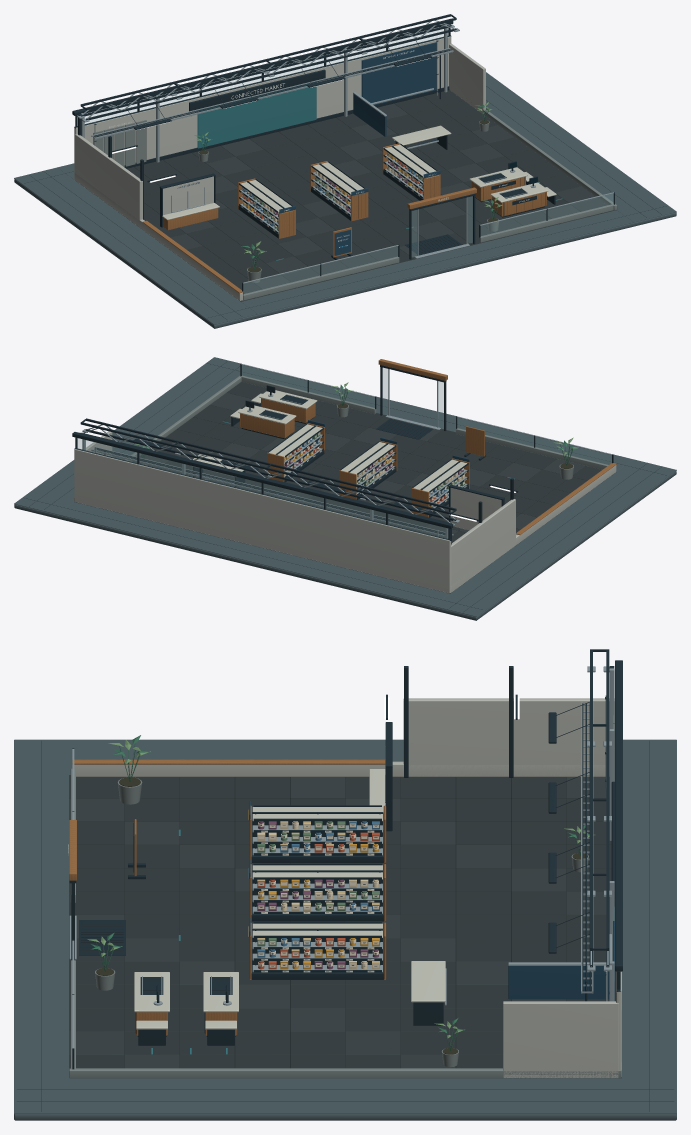
The model's file is enterprise-store.glb.
3 renders of one model, top to bottom at view 1: azimuth 30°, elevation 25°; view 2: azimuth 150°, elevation 25°; view 3: azimuth 270°, elevation 25°, orthographic. The views are drawn at different scales.
Parts seen in each view (by area): view 1: FloorShell_Warmlimestonetile, FloorShell_Exteriorcharcoalpaving, FloorShell_Limestonetonevariation, CutawayWalls_Warmmineralplaster, RearElevation_Warmmineralplaster, LightingRig_Graphitearchitecturalsteel, RearElevation_Graphitearchitecturalsteel, RearElevation_Retailbluegreenenamel, Storefront_Architecturalclearblueglazing, RearElevation_Slatenavypanels, RetailAisles_Graphitearchitecturalsteel, Storefront_Boardformedconcrete (+23 smaller); view 2: FloorShell_Exteriorcharcoalpaving, RearElevation_Warmmineralplaster, FloorShell_Warmlimestonetile, FloorShell_Limestonetonevariation, LightingRig_Graphitearchitecturalsteel, CutawayWalls_Warmmineralplaster, RearElevation_Architecturalclearblueglazing, Storefront_Architecturalclearblueglazing, RearElevation_Graphitearchitecturalsteel, Storefront_Boardformedconcrete, RetailAisles_Graphitearchitecturalsteel, RetailAisles_Paleterrazzocountertop (+17 smaller); view 3: FloorShell_Warmlimestonetile, FloorShell_Exteriorcharcoalpaving, CutawayWalls_Warmmineralplaster, FloorShell_Limestonetonevariation, RetailAisles_Graphitearchitecturalsteel, CutawayWalls_Boardformedconcrete, RetailAisles_Paleterrazzocountertop, LightingRig_Graphitearchitecturalsteel, RetailAisles_Uncoatedproductpaper, FloorShell_Graphitearchitecturalsteel, RetailAisles_Satinstainlesssteel, CutawayWalls_Slatenavypanels (+21 smaller).
Part boxes in pixels (bbox=[...]): FloorShell_Warmlimestonetile: bbox=[127, 90, 616, 301]; FloorShell_Exteriorcharcoalpaving: bbox=[14, 72, 676, 328]; FloorShell_Limestonetonevariation: bbox=[170, 103, 597, 294]; CutawayWalls_Warmmineralplaster: bbox=[74, 43, 485, 300]; RearElevation_Warmmineralplaster: bbox=[74, 36, 451, 178]; LightingRig_Graphitearchitecturalsteel: bbox=[80, 14, 456, 182]; RearElevation_Graphitearchitecturalsteel: bbox=[72, 18, 453, 168]; RearElevation_Retailbluegreenenamel: bbox=[197, 82, 316, 148]; Storefront_Architecturalclearblueglazing: bbox=[243, 194, 613, 293]; RearElevation_Slatenavypanels: bbox=[361, 42, 436, 105]; RetailAisles_Graphitearchitecturalsteel: bbox=[238, 144, 437, 238]; Storefront_Boardformedconcrete: bbox=[243, 204, 614, 300]; FloorShell_Exteriorcharcoalpaving: bbox=[14, 357, 676, 620]; RearElevation_Warmmineralplaster: bbox=[74, 449, 451, 593]; FloorShell_Warmlimestonetile: bbox=[74, 381, 601, 586]; FloorShell_Limestonetonevariation: bbox=[132, 389, 585, 593]; LightingRig_Graphitearchitecturalsteel: bbox=[80, 418, 518, 523]; CutawayWalls_Warmmineralplaster: bbox=[86, 431, 616, 592]; RearElevation_Architecturalclearblueglazing: bbox=[77, 438, 447, 538]; Storefront_Architecturalclearblueglazing: bbox=[242, 365, 611, 464]; RearElevation_Graphitearchitecturalsteel: bbox=[72, 432, 453, 540]; Storefront_Boardformedconcrete: bbox=[240, 375, 608, 469]; RetailAisles_Graphitearchitecturalsteel: bbox=[268, 423, 468, 517]; RetailAisles_Paleterrazzocountertop: bbox=[268, 424, 466, 492]; FloorShell_Warmlimestonetile: bbox=[69, 775, 615, 1068]; FloorShell_Exteriorcharcoalpaving: bbox=[14, 739, 676, 1120]; CutawayWalls_Warmmineralplaster: bbox=[72, 698, 618, 1078]; FloorShell_Limestonetonevariation: bbox=[69, 777, 609, 1068]; RetailAisles_Graphitearchitecturalsteel: bbox=[251, 805, 383, 979]; CutawayWalls_Boardformedconcrete: bbox=[69, 1068, 621, 1078]; RetailAisles_Paleterrazzocountertop: bbox=[252, 807, 382, 937]; LightingRig_Graphitearchitecturalsteel: bbox=[386, 649, 609, 967]; RetailAisles_Uncoatedproductpaper: bbox=[258, 822, 378, 972]; FloorShell_Graphitearchitecturalsteel: bbox=[17, 741, 673, 1111]; RetailAisles_Satinstainlesssteel: bbox=[252, 825, 382, 972]; CutawayWalls_Slatenavypanels: bbox=[508, 966, 609, 999].
Size of the model in its own units: 32 by 5.43 by 24.
30 materials, 1 textured.
